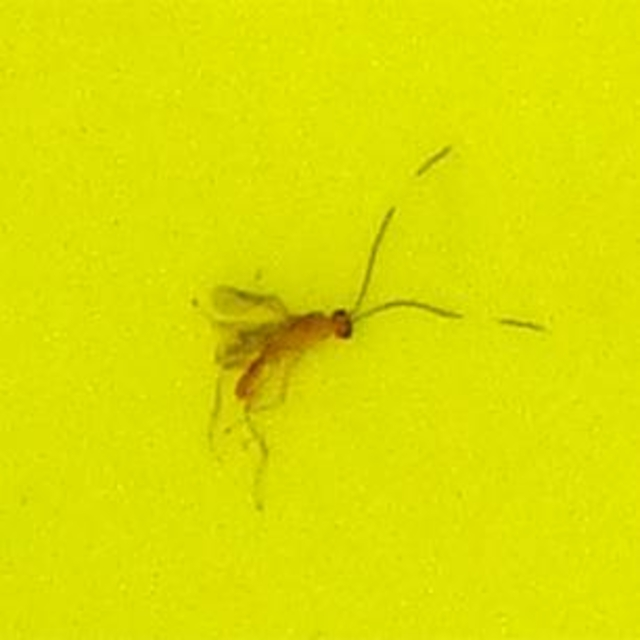Hymenoptera: (209, 225, 431, 415)
